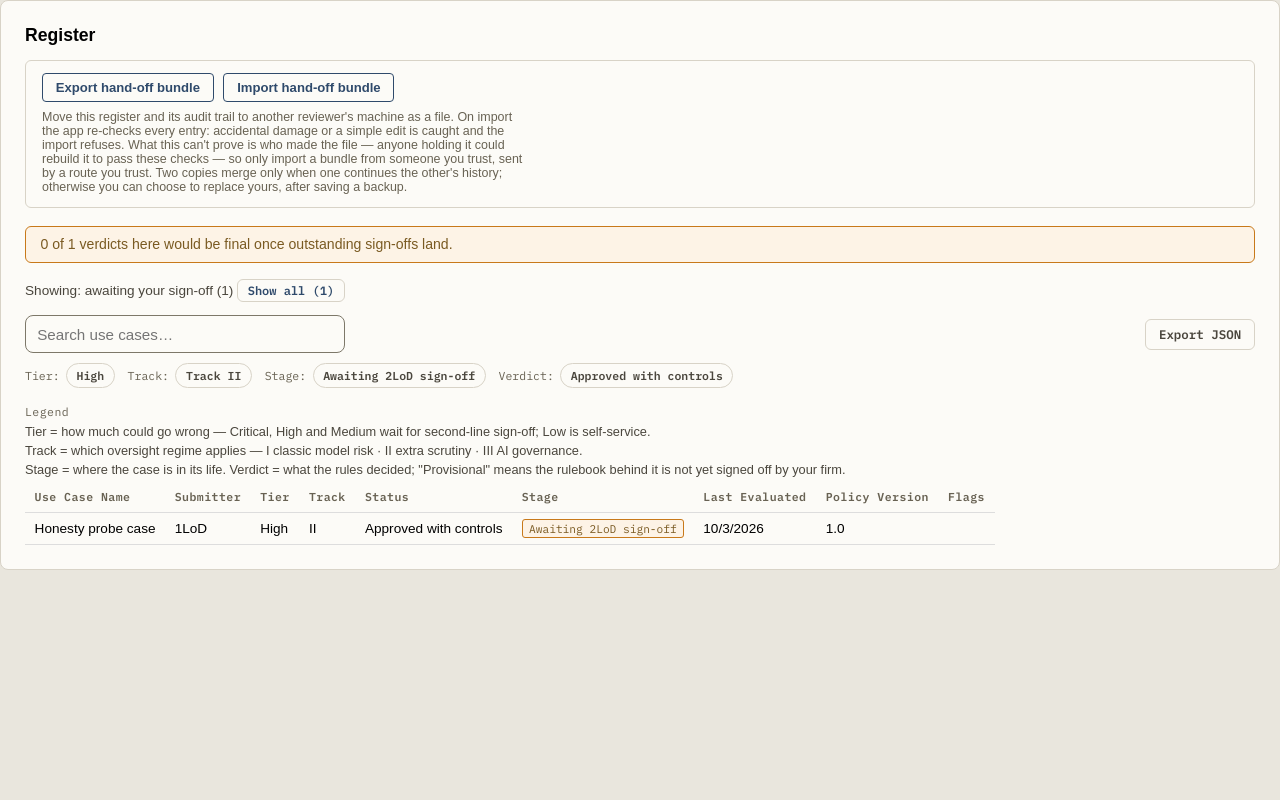
RegisterDetail — audit trail honesty (explore-002) › does not claim immutability, and qualifies the trail before the events are read
Click the button "Honesty probe case": (95, 528) [35,521,156,536]
(page scrolled)
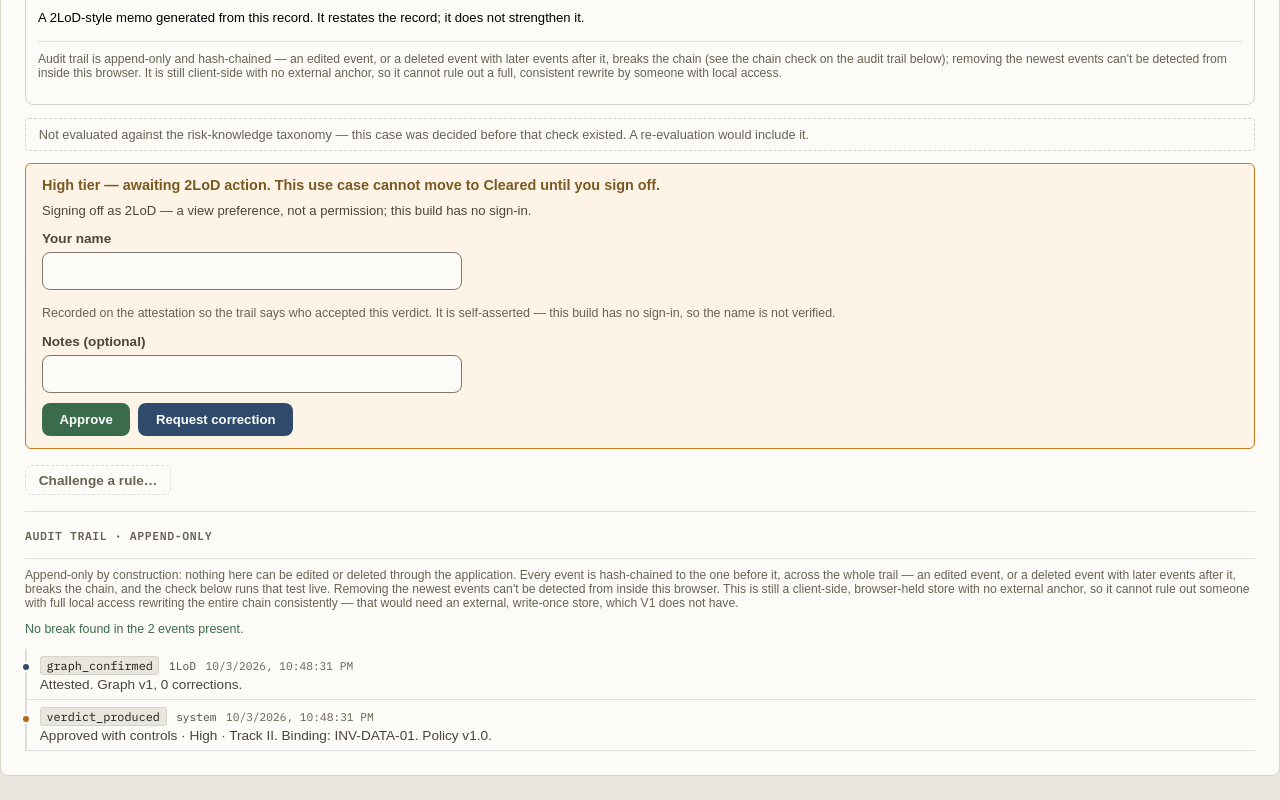
Check: the heading "Audit trail · append-only" is shown, box [25,511,1255,543]
Check: the text "cannot rule out someone with full local access" is shown, box [25,568,1250,610]
